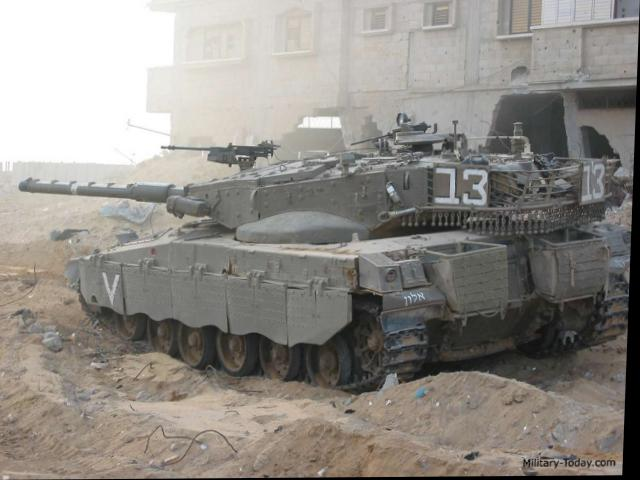tank: (68, 130, 636, 414)
